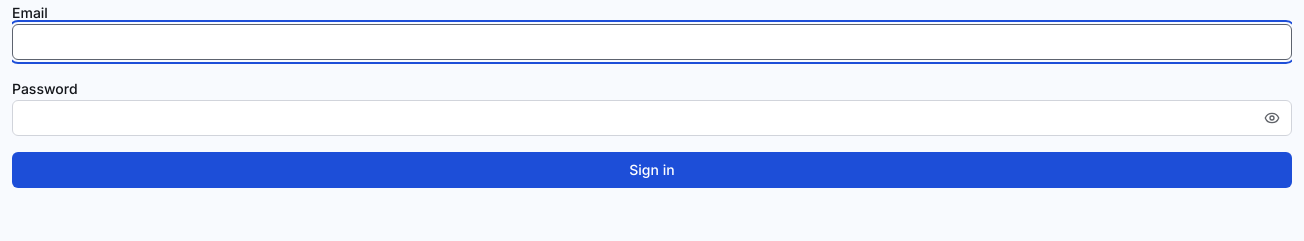
Scenario: PlatformLoginForm › shows the network-error message when the request never reached the server
Step 1. Type "admin@example.com" into the field labelled "Email" → (652, 42), box [12,24,1292,60]
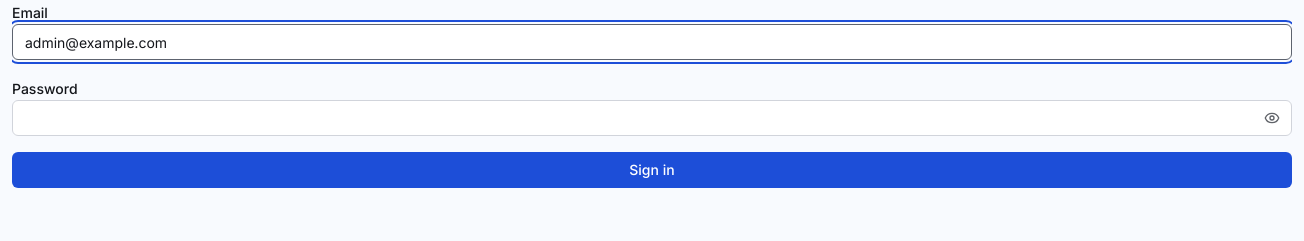
Step 2. Type "right" into the password field labelled "Password" → (652, 118), box [12,100,1292,136]
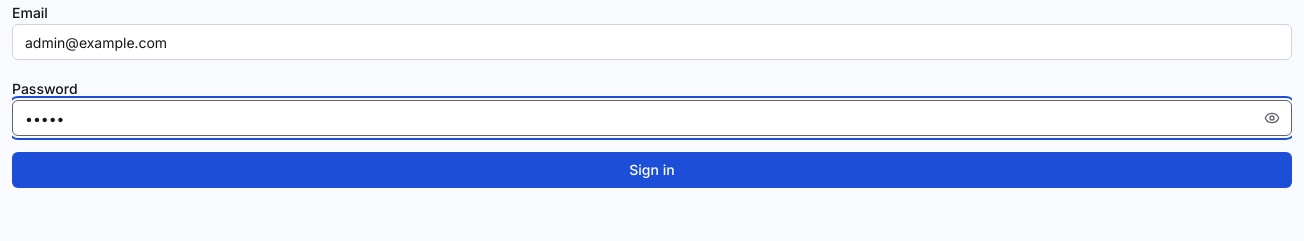
Step 3. Click the button "Sign in" → (652, 170), box [12,152,1292,188]
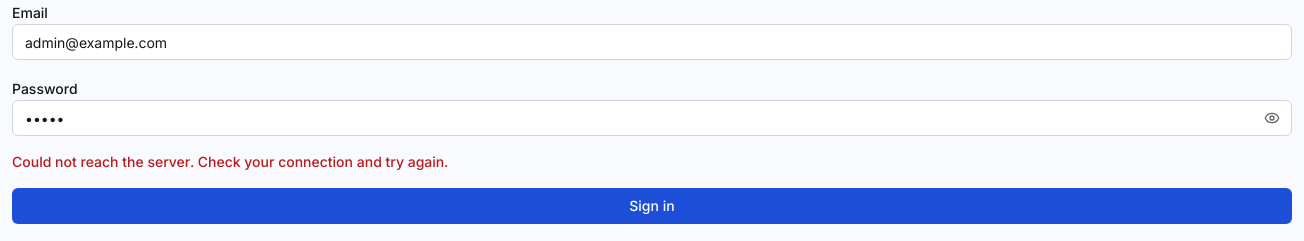
Now the message shows "Could not reach the server", box [12,153,448,170]
